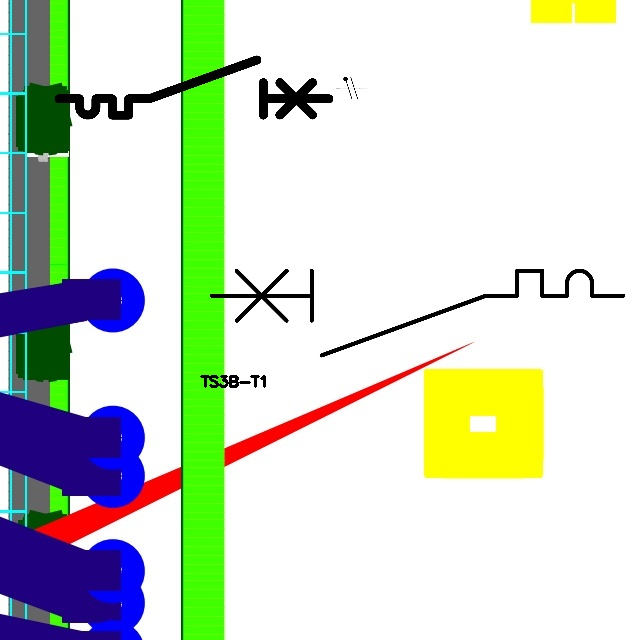interruptor_termomagnetico: (201, 260, 634, 366), (52, 53, 336, 122)
